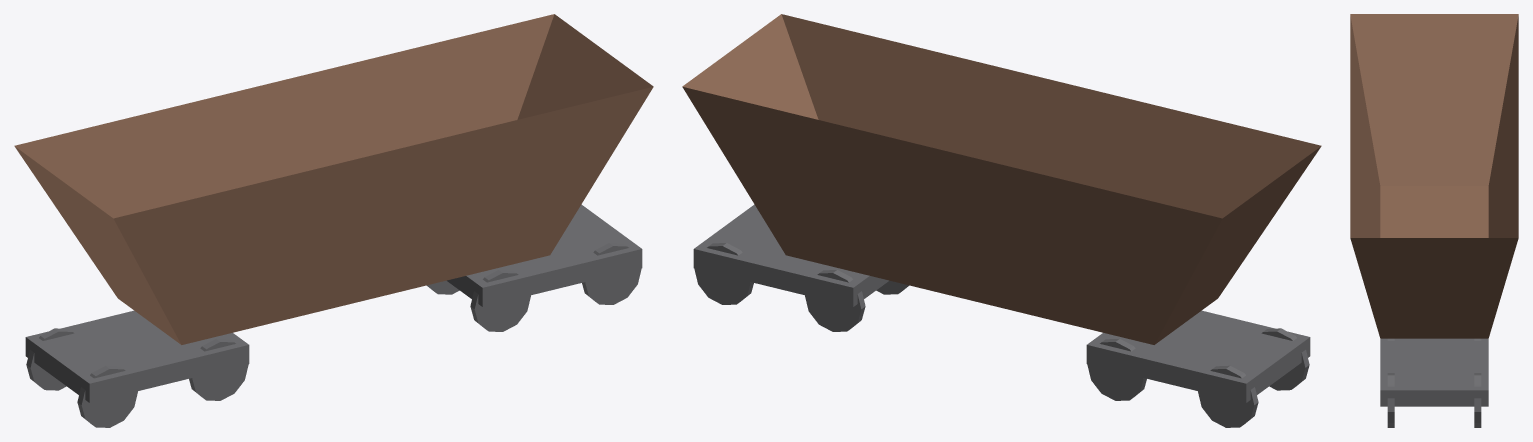
Rendered from HopperEmpty.glb.
3 renders of one model, left to right at view 1: azimuth 30°, elevation 25°; view 2: azimuth 150°, elevation 25°; view 3: azimuth 270°, elevation 25°, orthographic. The views are drawn at different scales.
Parts seen in each view (by area): view 1: Hopper.001, Bogie frame.006, Bogie frame.007, Wheel.024, Wheel.028, Wheel.025, Wheel.029, Wheel.026; view 2: Hopper.001, Bogie frame.006, Bogie frame.007, Wheel.026, Wheel.030, Wheel.027, Wheel.031, Wheel.024; view 3: Hopper.001, Bogie frame.007, Wheel.029, Wheel.031.
Part boxes in pixels (x1,y1,x2,y2): Hopper.001: [14, 14, 653, 344]; Bogie frame.006: [25, 310, 249, 402]; Bogie frame.007: [447, 204, 642, 306]; Wheel.024: [77, 365, 137, 427]; Wheel.028: [470, 270, 530, 331]; Wheel.025: [189, 338, 248, 400]; Wheel.029: [582, 243, 641, 304]; Wheel.026: [26, 328, 74, 390]; Hopper.001: [682, 14, 1321, 344]; Bogie frame.006: [1086, 310, 1310, 402]; Bogie frame.007: [693, 204, 888, 306]; Wheel.026: [1198, 365, 1258, 427]; Wheel.030: [805, 270, 865, 331]; Wheel.027: [1087, 338, 1146, 400]; Wheel.031: [694, 243, 753, 304]; Wheel.024: [1261, 328, 1309, 390]; Hopper.001: [1350, 14, 1518, 338]; Bogie frame.007: [1380, 338, 1488, 406]; Wheel.029: [1387, 373, 1394, 427]; Wheel.031: [1474, 373, 1481, 427].
Bounding box in the file's own units: 9.12 × 3.58 × 2.8.
